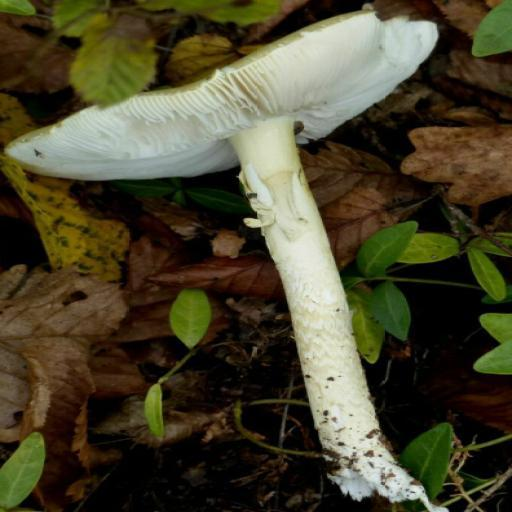mushroom: (0, 5, 441, 500)
